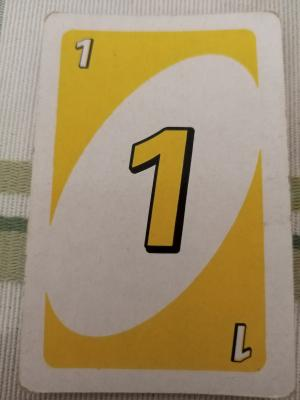num_1: (100, 109, 226, 281)
yellow: (58, 26, 111, 80)
